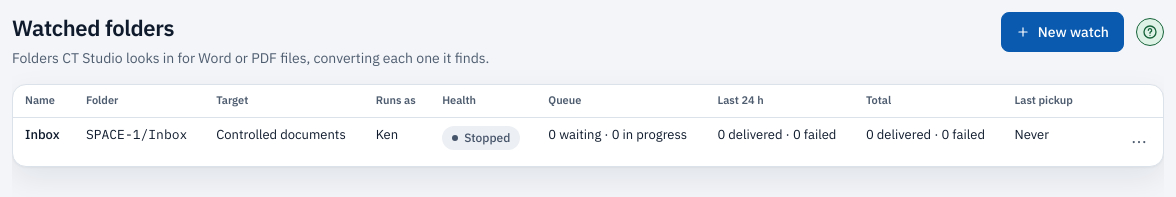
the Watched folders page › starts a stopped watch, saying how to retry stuck moves
Click the button named "Actions for Inbox" at x=1139, y=142, box 1119,122 -> 1159,162
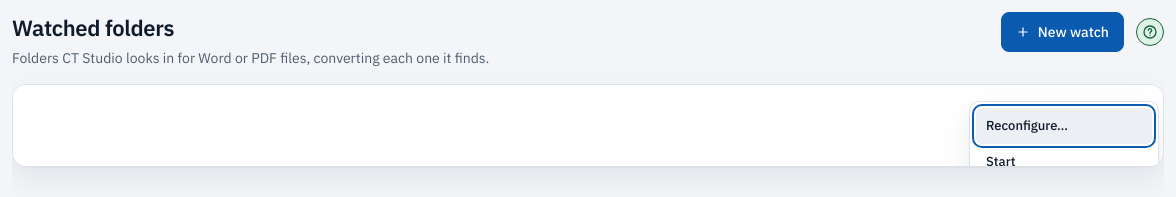
Click the menu item "Start" at x=1064, y=162, box 976,144 -> 1152,180
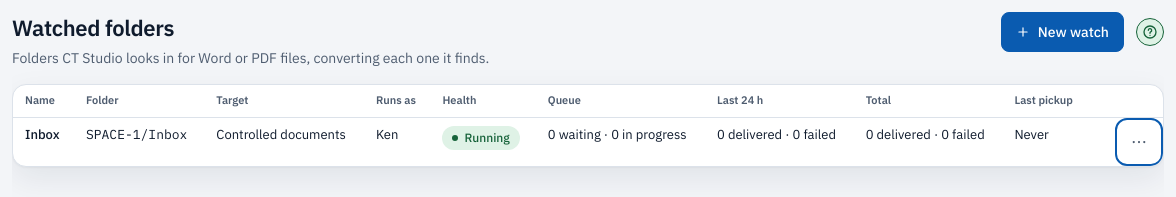
Now the text "Running" is shown, box 442,126 -> 520,150
